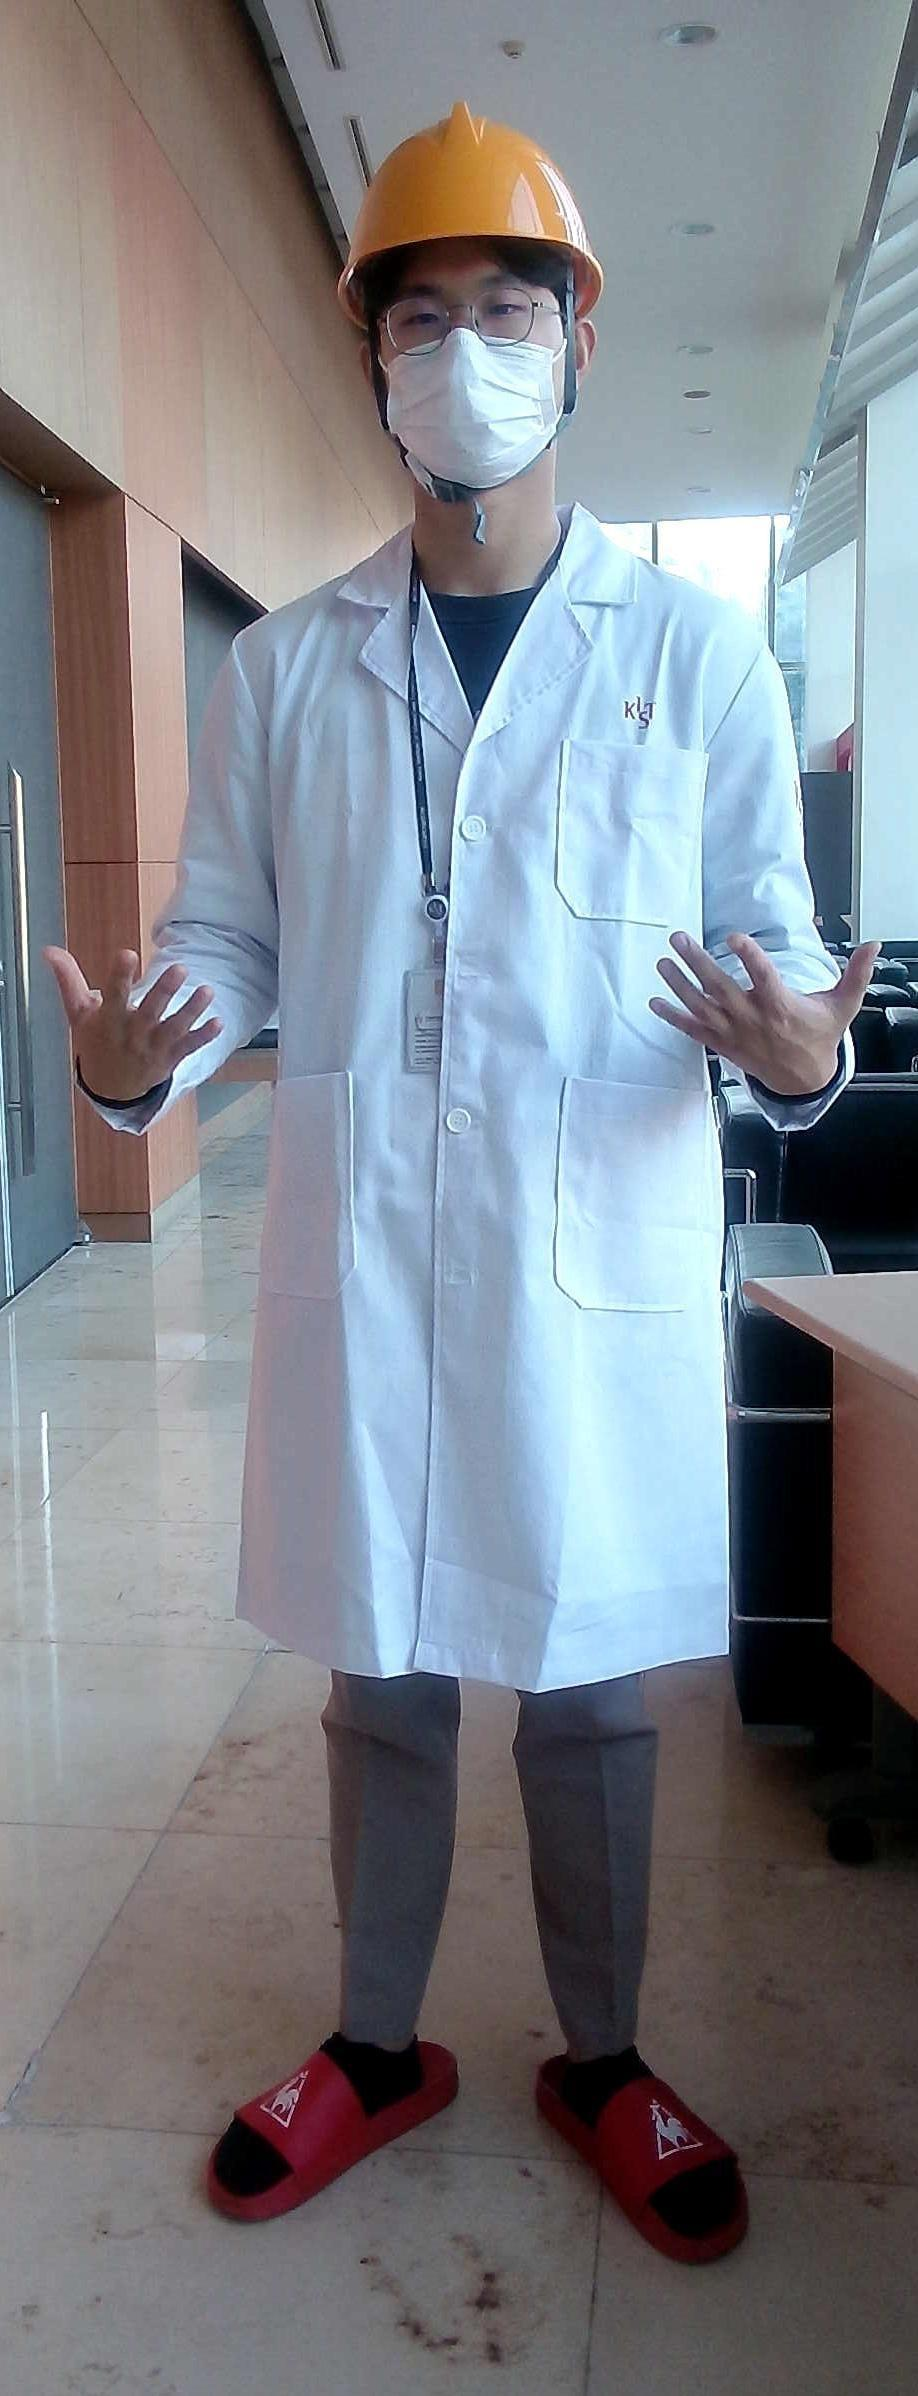lab_coat: (234, 561, 706, 1632)
